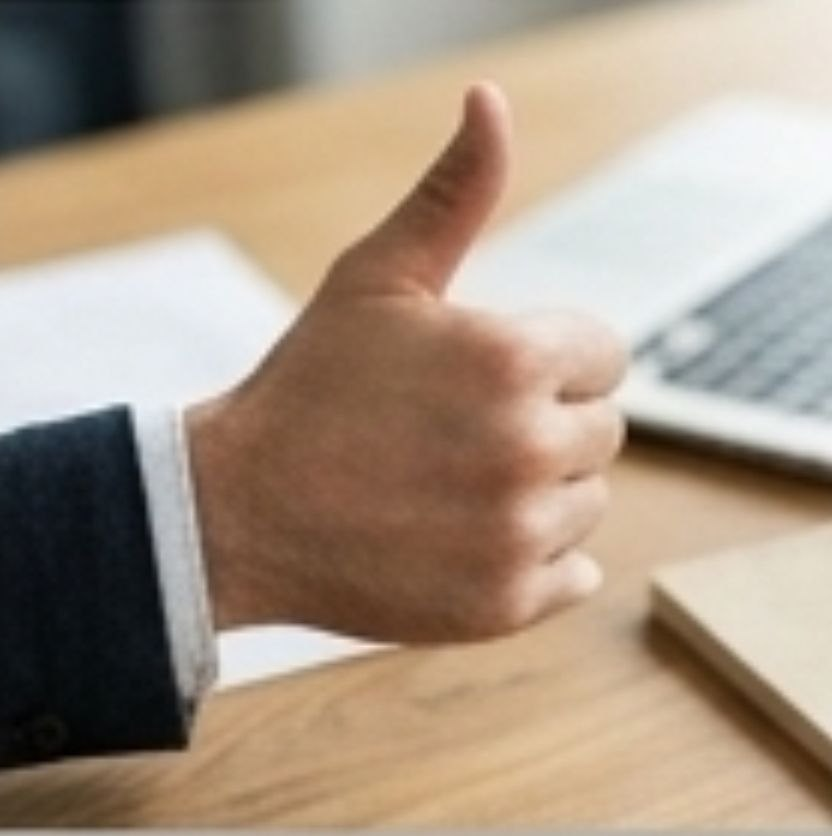Thumbs up: (211, 56, 654, 710)
